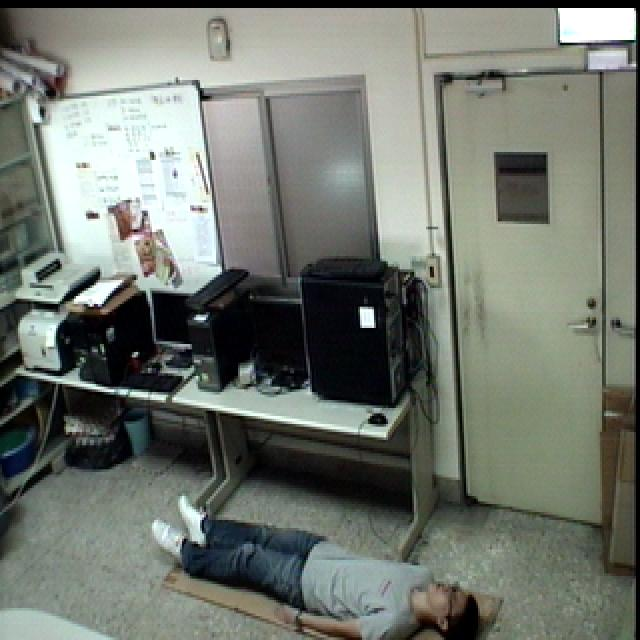lie: (150, 466, 482, 640)
